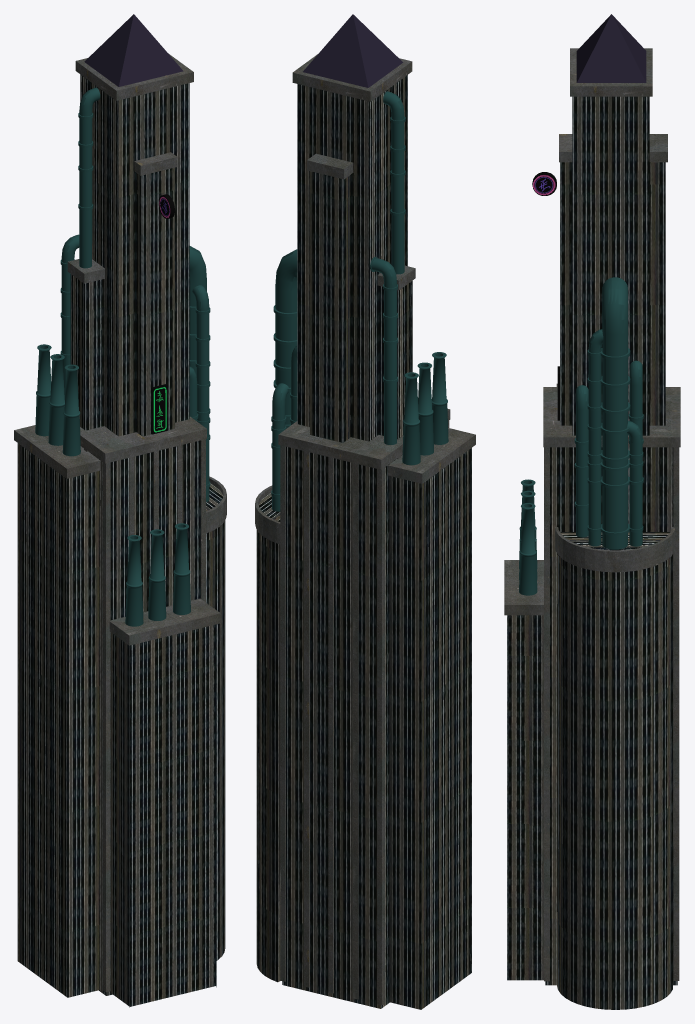
Rendered from Modular_Building_002.glb.
The picture shows the model from 3 angles, left to right: view 1: azimuth 30°, elevation 25°; view 2: azimuth 150°, elevation 25°; view 3: azimuth 270°, elevation 25°; orthographic projection.
Parts seen in each view (by area): view 1: Box05, Box26, Box01, Box02, Box03, Cylinder01, Box04, Box13, Pyramid02, Box09, Box25, Loft08 (+16 smaller); view 2: Box05, Box02, Box01, Cylinder01, Box03, Box12, Pyramid02, Box11, Box16, Box18, Box19, Box09 (+12 smaller); view 3: Cylinder01, Box01, Box26, Box02, Box03, Loft01, Box11, Pyramid02, Box14, Tube01, Box09, Loft02 (+8 smaller).
Boxes of the visible parts, x1=… form: Box05: x1=17, y1=443, x2=99, y2=997; Box26: x1=111, y1=624, x2=216, y2=1007; Box01: x1=80, y1=74, x2=189, y2=436; Box02: x1=81, y1=440, x2=200, y2=995; Box03: x1=136, y1=167, x2=174, y2=436; Cylinder01: x1=206, y1=483, x2=225, y2=960; Box04: x1=70, y1=274, x2=104, y2=430; Box13: x1=103, y1=462, x2=110, y2=992; Pyramid02: x1=84, y1=14, x2=183, y2=86; Box09: x1=80, y1=416, x2=206, y2=463; Box25: x1=109, y1=598, x2=220, y2=645; Loft08: x1=79, y1=87, x2=100, y2=268; Box05: x1=389, y1=448, x2=471, y2=1009; Box02: x1=282, y1=446, x2=402, y2=1008; Box01: x1=297, y1=75, x2=407, y2=441; Cylinder01: x1=256, y1=493, x2=280, y2=982; Box03: x1=310, y1=171, x2=350, y2=442; Box12: x1=377, y1=467, x2=384, y2=1005; Pyramid02: x1=303, y1=14, x2=402, y2=87; Box11: x1=280, y1=445, x2=285, y2=981; Box16: x1=328, y1=457, x2=333, y2=993; Box18: x1=353, y1=463, x2=358, y2=999; Box19: x1=304, y1=451, x2=309, y2=987; Box09: x1=278, y1=409, x2=450, y2=469; Cylinder01: x1=557, y1=532, x2=673, y2=1009; Box01: x1=572, y1=96, x2=649, y2=435; Box26: x1=507, y1=615, x2=543, y2=980; Box02: x1=545, y1=447, x2=677, y2=985; Box03: x1=560, y1=162, x2=665, y2=425; Loft01: x1=602, y1=277, x2=627, y2=549; Box11: x1=673, y1=447, x2=679, y2=980; Pyramid02: x1=576, y1=14, x2=646, y2=82; Box14: x1=544, y1=447, x2=549, y2=981; Tube01: x1=555, y1=527, x2=675, y2=572; Box09: x1=543, y1=387, x2=680, y2=447; Loft02: x1=588, y1=329, x2=603, y2=546.
Bounding box in the file's own units: 1.53 × 7.66 × 1.28.
6 materials, 4 textured.
